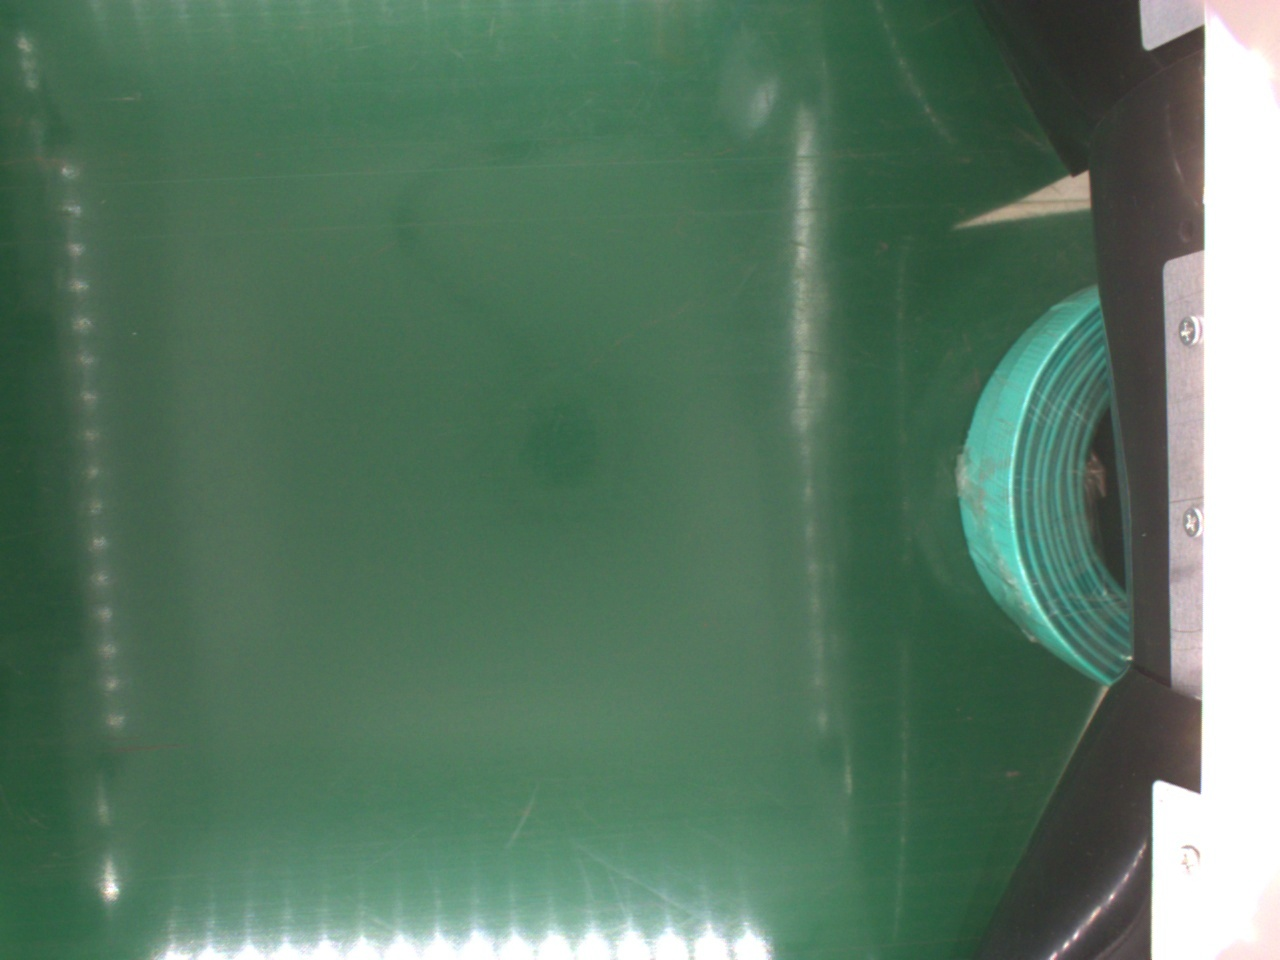green: (953, 287, 1141, 673)
